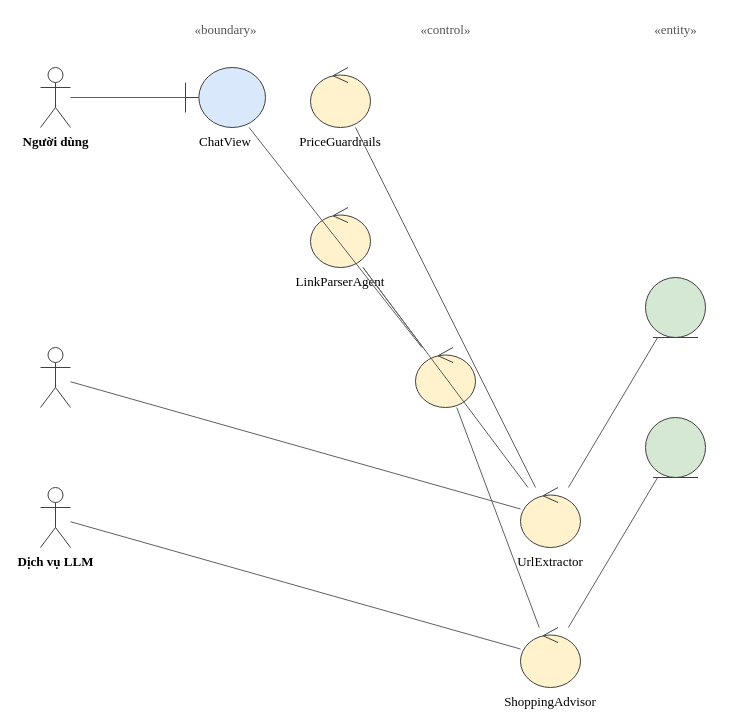
Some shapes in this 752 by 727 pixel diagram are drawn without their labels. Each missing label, with the centre of its shape:
AgentWorkflow: [445,377]
ChatMessage: [675,447]
Product: [675,307]
Sàn TMĐT: [55,377]
